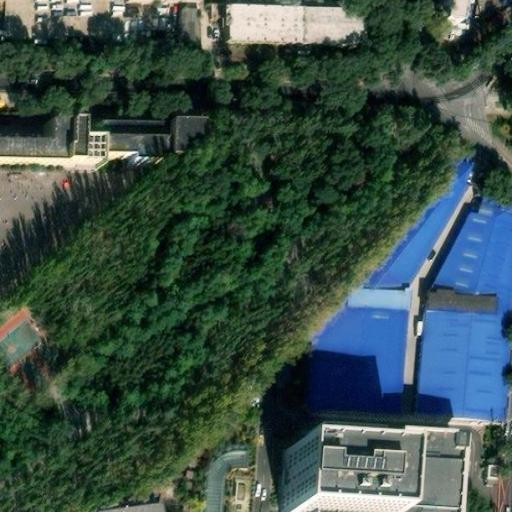building: (311, 155, 480, 411), (418, 198, 512, 418), (280, 448, 389, 512), (226, 2, 366, 49), (385, 437, 457, 512), (0, 116, 65, 168), (100, 136, 165, 165), (164, 123, 205, 160), (64, 123, 100, 161), (178, 8, 200, 53), (93, 126, 165, 138), (98, 503, 160, 512), (485, 460, 503, 480)
